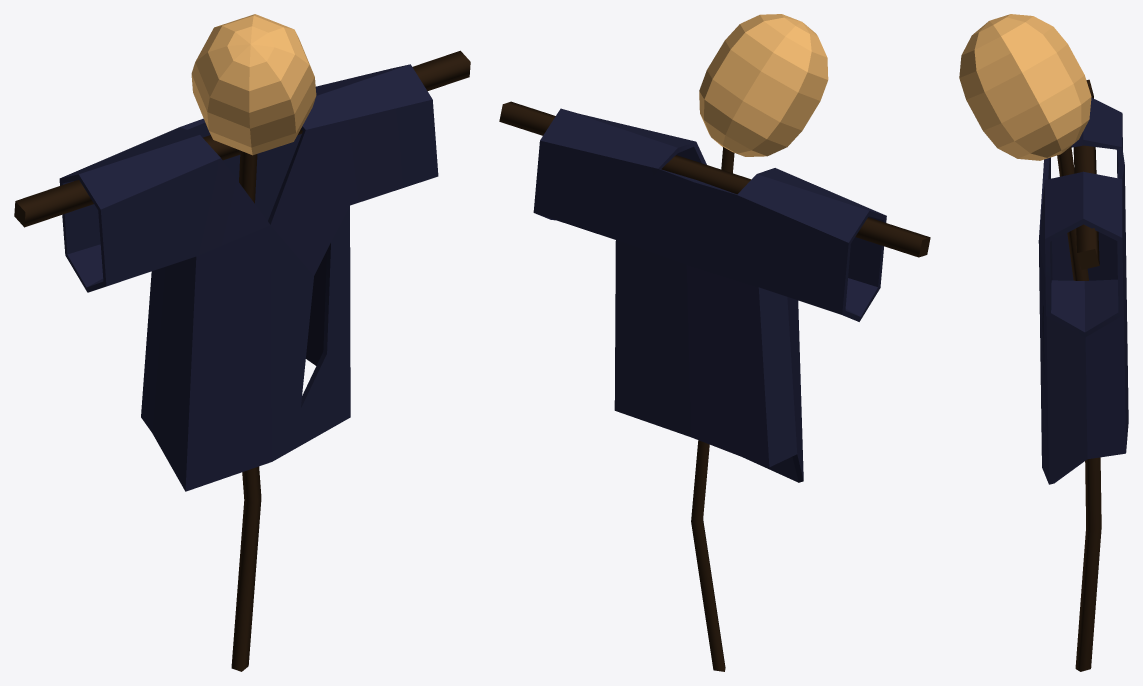
File: Epouventail.FBX
The picture shows the model from 3 angles, left to right: view 1: azimuth 30°, elevation 25°; view 2: azimuth 150°, elevation 25°; view 3: azimuth 270°, elevation 25°; orthographic projection. The views are drawn at different scales.
Visible parts, largest first — view 1: Box001; view 2: Box001; view 3: Box001.
Part boxes in pixels (box(x1,y1,x2,y2)): Box001: box(14, 14, 470, 671); Box001: box(499, 14, 930, 671); Box001: box(959, 14, 1128, 671).
Size of the model in its own units: 37.77 by 54.49 by 13.07.
